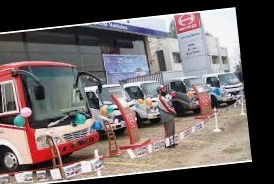bus: (0, 54, 111, 172)
